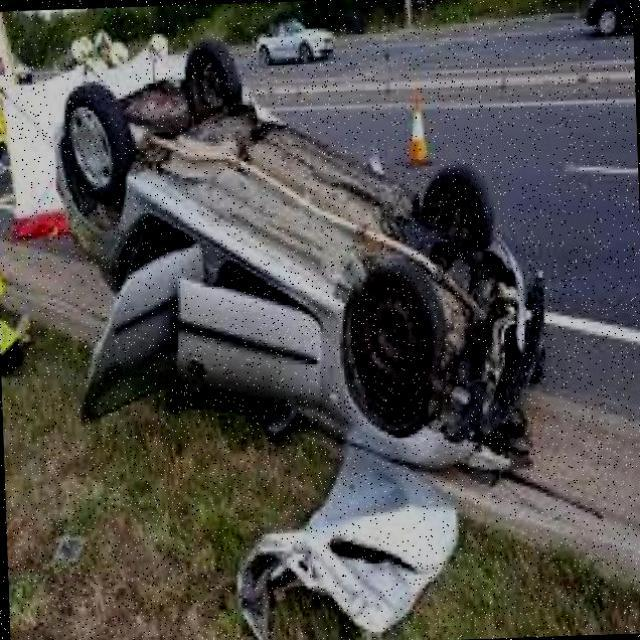accident: (46, 29, 550, 487)
